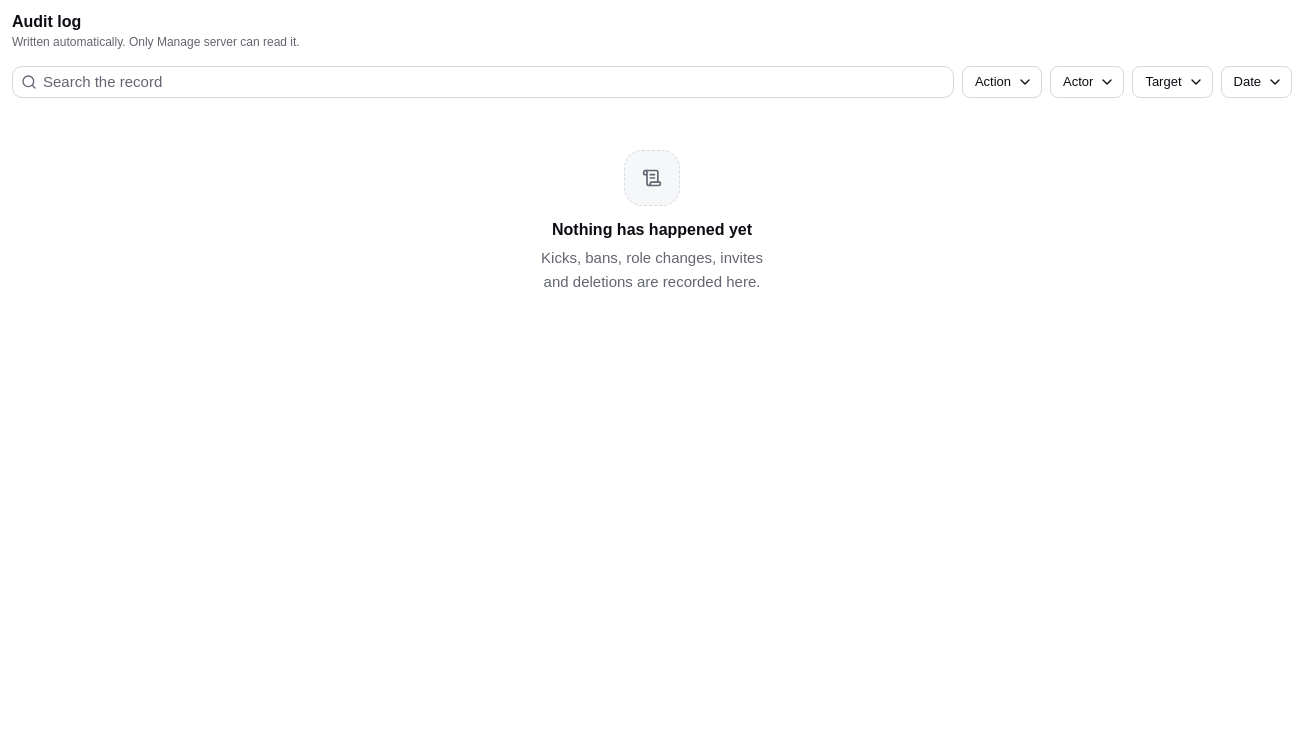
AuditLogPage › tells an empty record apart from a filtered one with no matches
Check: the text "Nothing has happened yet" is shown, box [552,221,752,238]
Click the button "Action" at (1002, 82), box [962,66,1042,98]
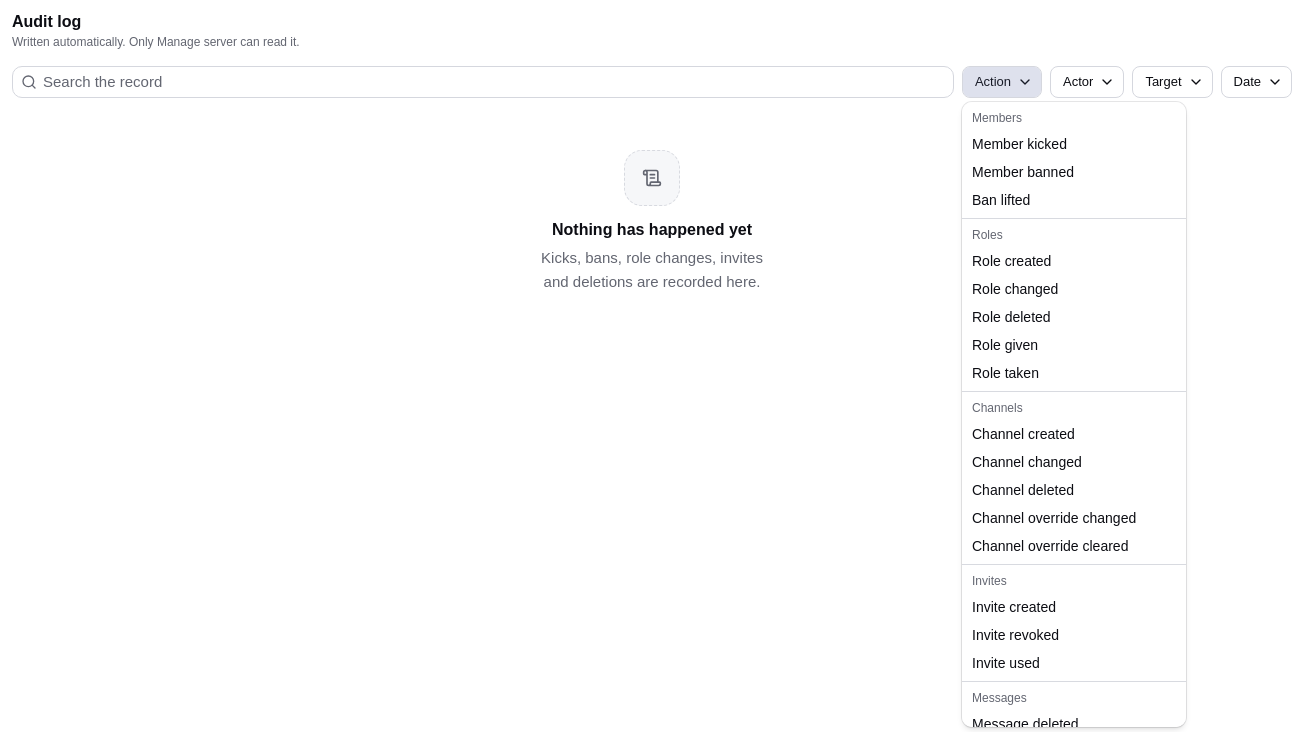
Click the menu item "Member banned" at (1023, 172), box [972,164,1074,180]
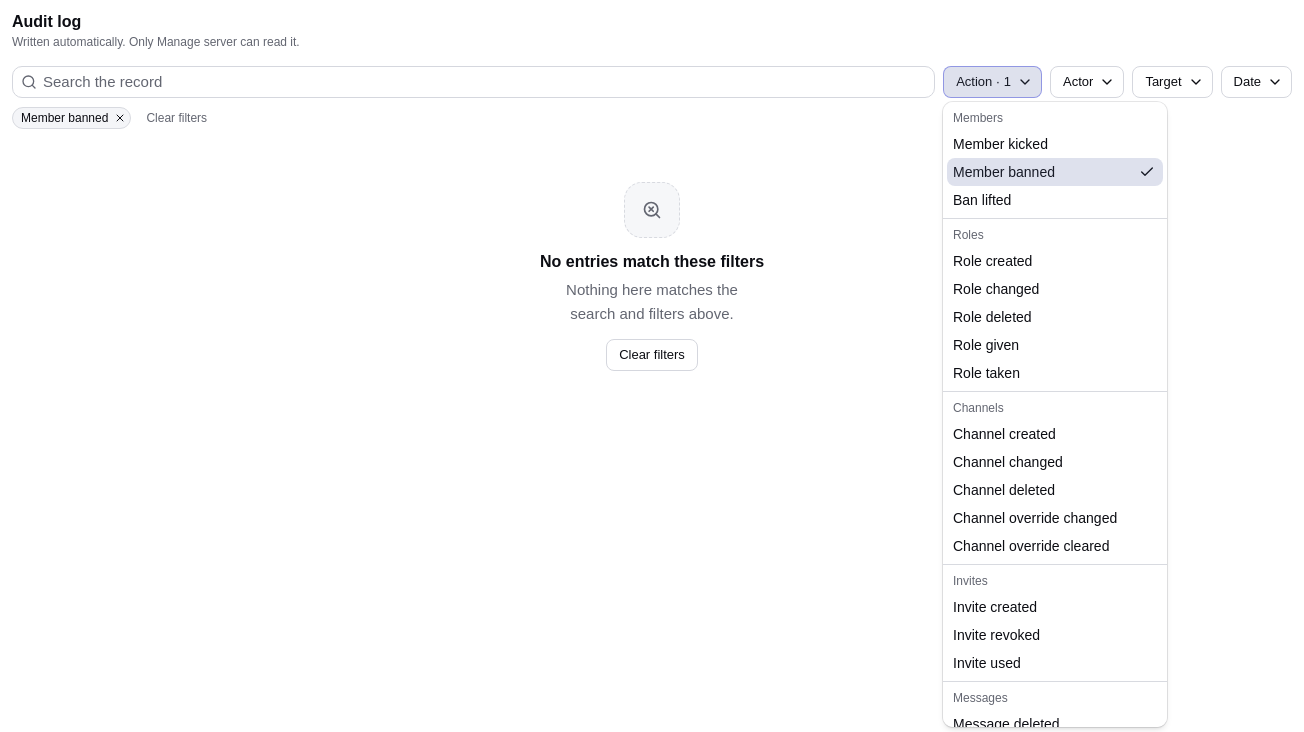
Check: the text "No entries match these filters" is shown, box [540,253,764,270]
Check: the button "Clear filters" is shown, box [137,106,216,130]
